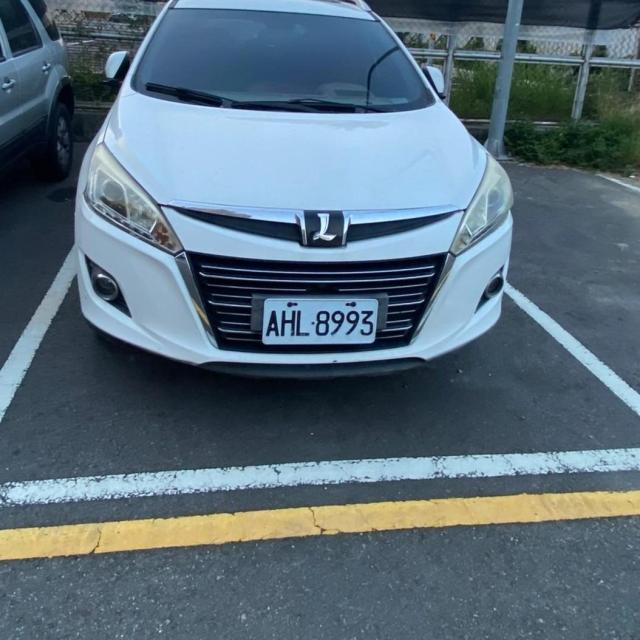W: (262, 297, 376, 345)
